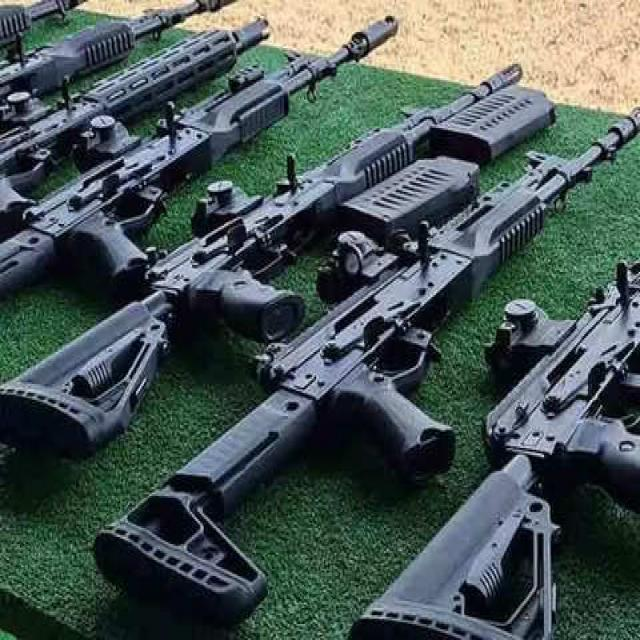rifle: (78, 109, 633, 625), (3, 49, 539, 475), (1, 7, 414, 284), (340, 258, 639, 636), (5, 6, 293, 221)
